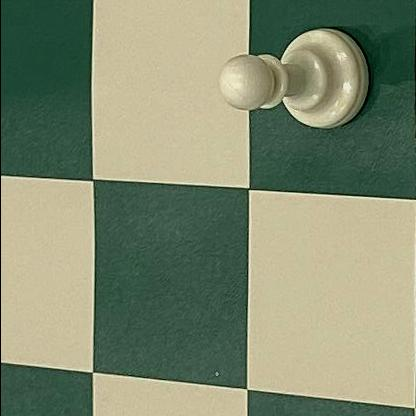white-pawn: (210, 25, 372, 132)
